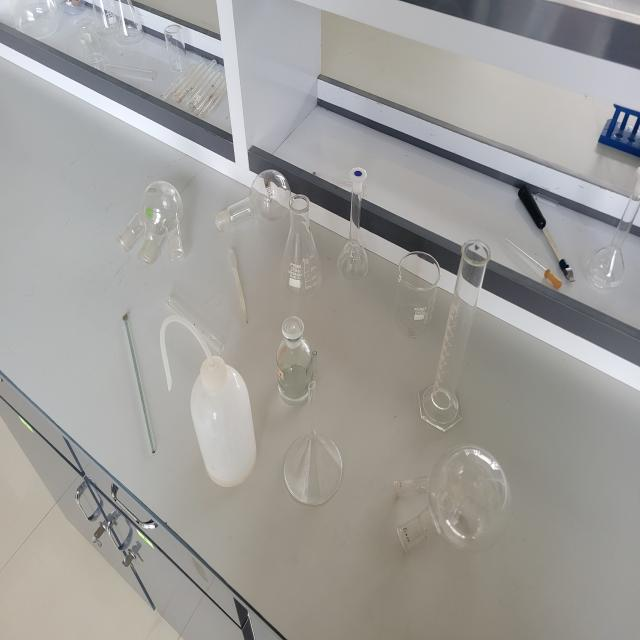Beaker: (392, 242, 449, 347)
Glass_Rod: (110, 296, 168, 477)
Measuring_Cylinder: (408, 229, 502, 445)
Pipette: (219, 238, 260, 339)
Reagent_Bottle: (265, 310, 322, 412)
Round_Bottom_Flask_Borosilicate_Glass_1_Neck: (205, 152, 296, 237)
Round_Bottom_Flask_Borosilicate_Glass_2_Neck: (382, 429, 553, 589)
Round_Bottom_Flask_Borosilicate_Glass_3_Neck: (105, 159, 193, 279)
Volumetric_Flask: (581, 158, 640, 307), (330, 158, 381, 290)
